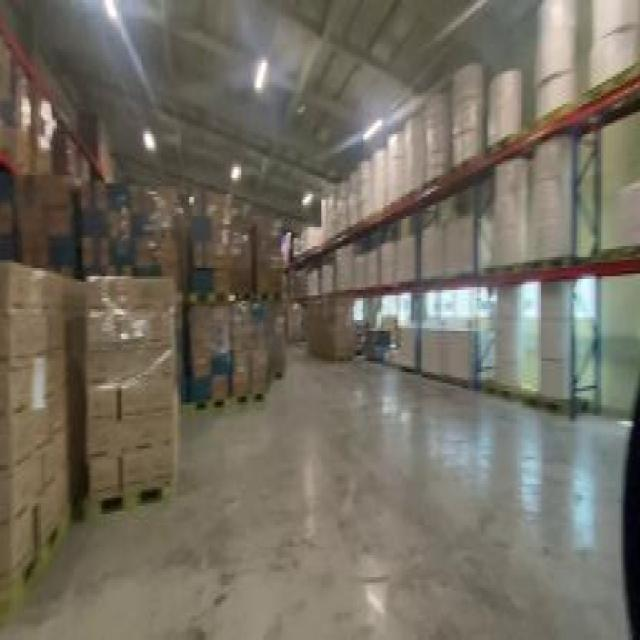box: (0, 262, 83, 610), (180, 183, 294, 408), (80, 268, 182, 517), (538, 276, 578, 413), (300, 290, 352, 361)
white_roll: (396, 315, 482, 391), (534, 271, 580, 413), (531, 142, 577, 268), (533, 0, 578, 120), (403, 93, 451, 191), (490, 153, 528, 274), (490, 282, 524, 402), (422, 210, 476, 274), (483, 68, 523, 148), (451, 65, 482, 158), (318, 175, 349, 235), (380, 235, 417, 282), (345, 159, 369, 224), (386, 128, 403, 202), (368, 145, 386, 211), (351, 246, 377, 287), (304, 260, 336, 292)
